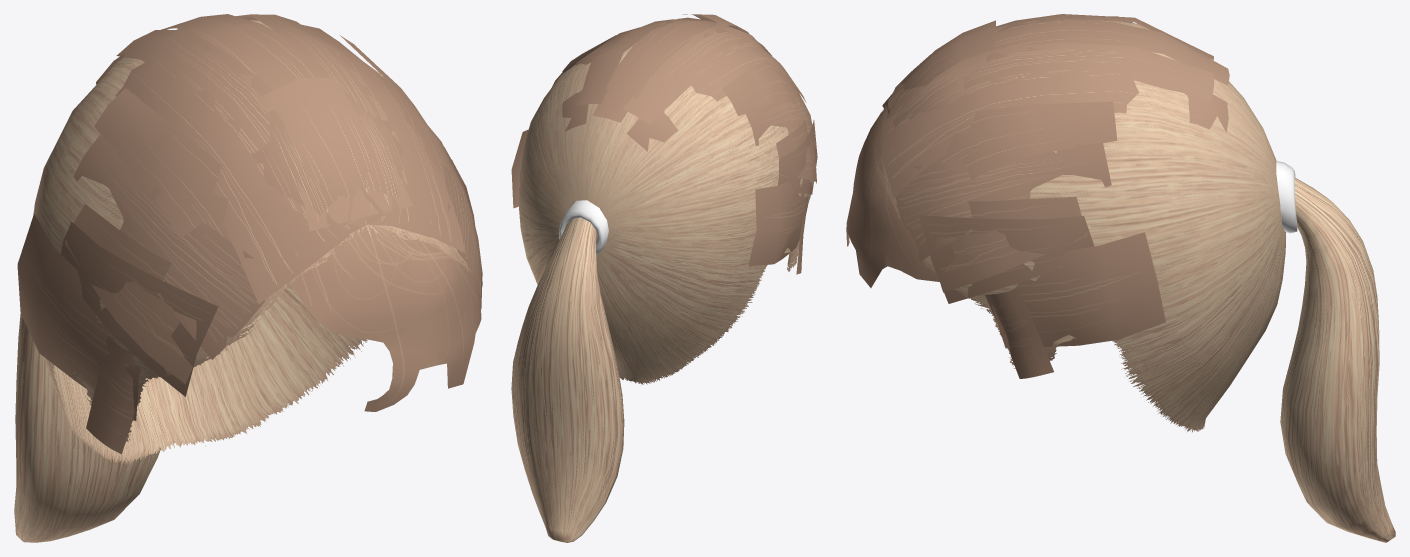
Rendered from hair_001.obj.
3 views of the same model, side by side, from view 1: azimuth 30°, elevation 25°; view 2: azimuth 150°, elevation 25°; view 3: azimuth 270°, elevation 25° (orthographic). The views are drawn at different scales.
Size of the model in its own units: 17.91 by 27.66 by 26.44.
